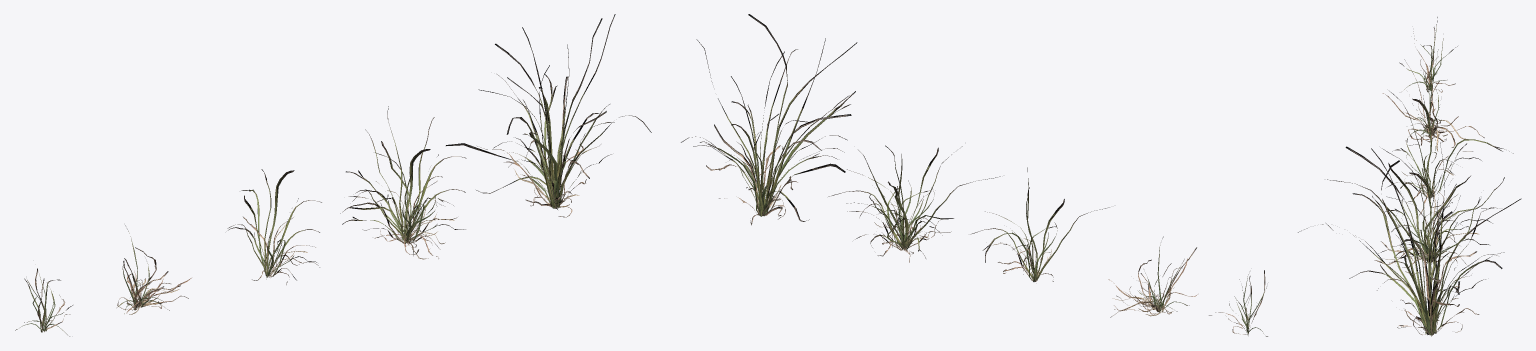
The model's file is ph-grass_medium_02.glb.
3 views of the same model, side by side, from view 1: azimuth 30°, elevation 25°; view 2: azimuth 150°, elevation 25°; view 3: azimuth 270°, elevation 25° (orthographic). The views are drawn at different scales.
Parts seen in each view (by area): view 1: grass_medium_02_a; view 2: grass_medium_02_a; view 3: grass_medium_02_a.
Boxes of the visible parts, <box> form: grass_medium_02_a: <box>15,14,651,336</box>; grass_medium_02_a: <box>681,14,1267,336</box>; grass_medium_02_a: <box>1298,17,1521,336</box>.
Size of the model in its own units: 1.31 by 0.4053 by 0.4333.
1 material, 1 textured.
